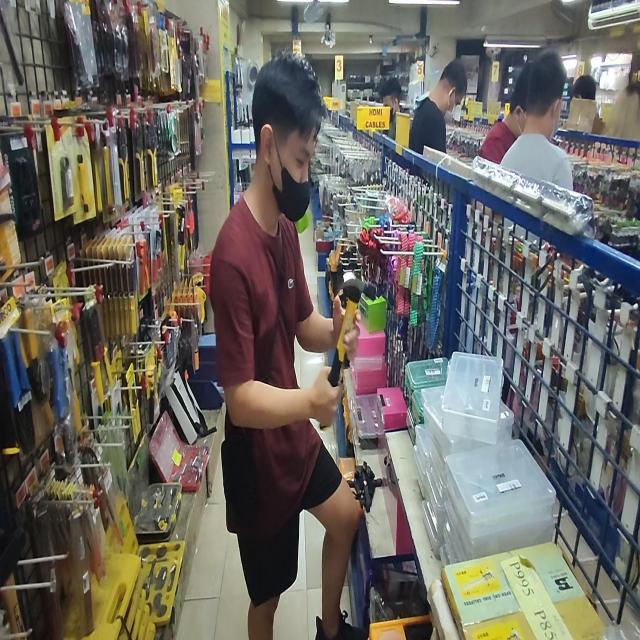hammer: (319, 278, 377, 429)
